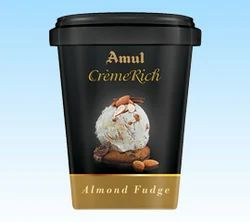Amul: (102, 49, 146, 67)
